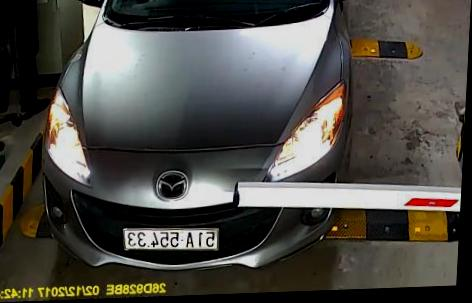License_Plate: (120, 217, 229, 257)
